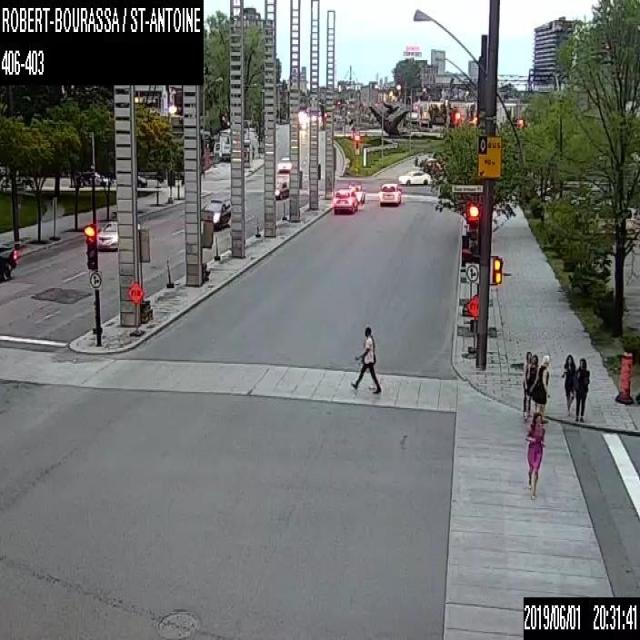construction: (136, 228, 152, 321), (126, 280, 144, 336), (200, 207, 213, 281), (616, 350, 634, 402), (465, 293, 479, 356)
pedestrian: (347, 326, 381, 394), (525, 412, 544, 498), (532, 354, 550, 423), (574, 356, 589, 423), (561, 352, 576, 414), (522, 350, 532, 417), (528, 354, 538, 417)
vehicle: (95, 217, 140, 251), (198, 197, 230, 231), (274, 155, 302, 188), (333, 187, 357, 213), (0, 241, 16, 279), (379, 182, 401, 204), (398, 169, 430, 184), (348, 182, 364, 202), (274, 181, 289, 200)
